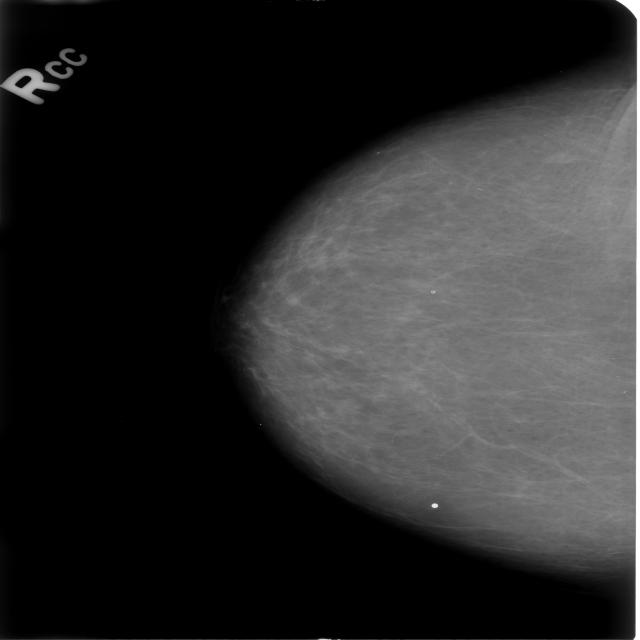normal: (220, 69, 640, 568)
